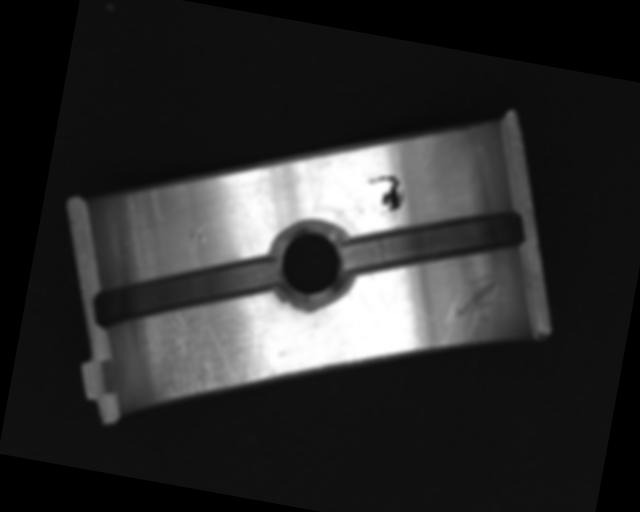blot: (362, 170, 408, 217)
bruise: (184, 221, 210, 244)
gap: (89, 227, 288, 359), (342, 181, 530, 299)
hole: (263, 217, 357, 307)
nick: (436, 262, 503, 354)
scratch: (123, 299, 284, 414)
